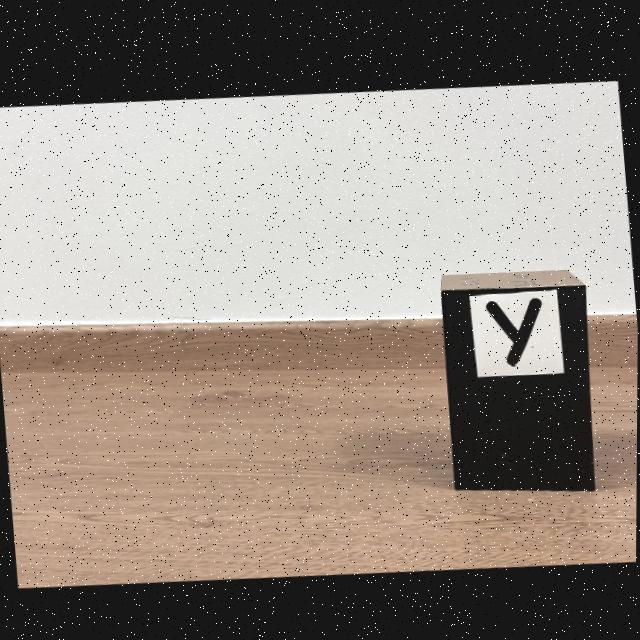Y: (487, 293, 543, 360)
